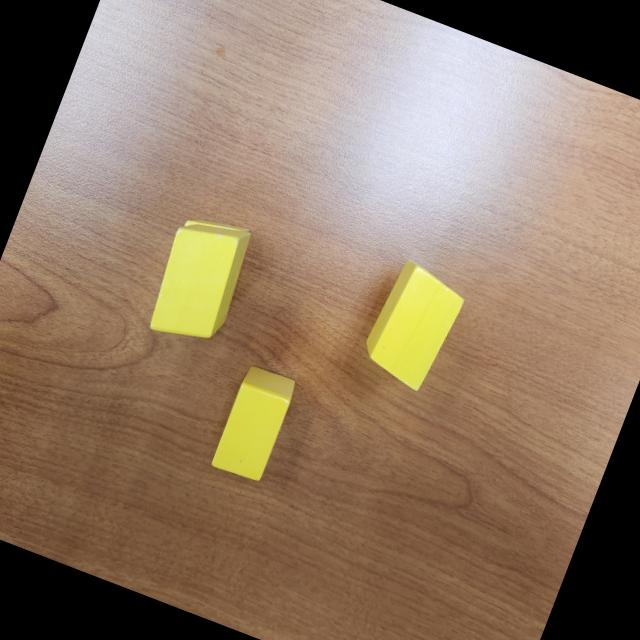yellow: (140, 208, 259, 354), (356, 255, 472, 395), (210, 364, 299, 484), (180, 205, 251, 250)
